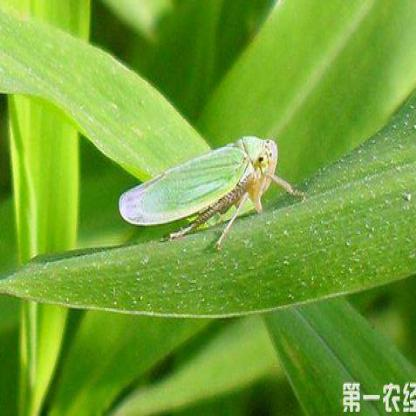Green-Leafhopper: (117, 131, 311, 244)
